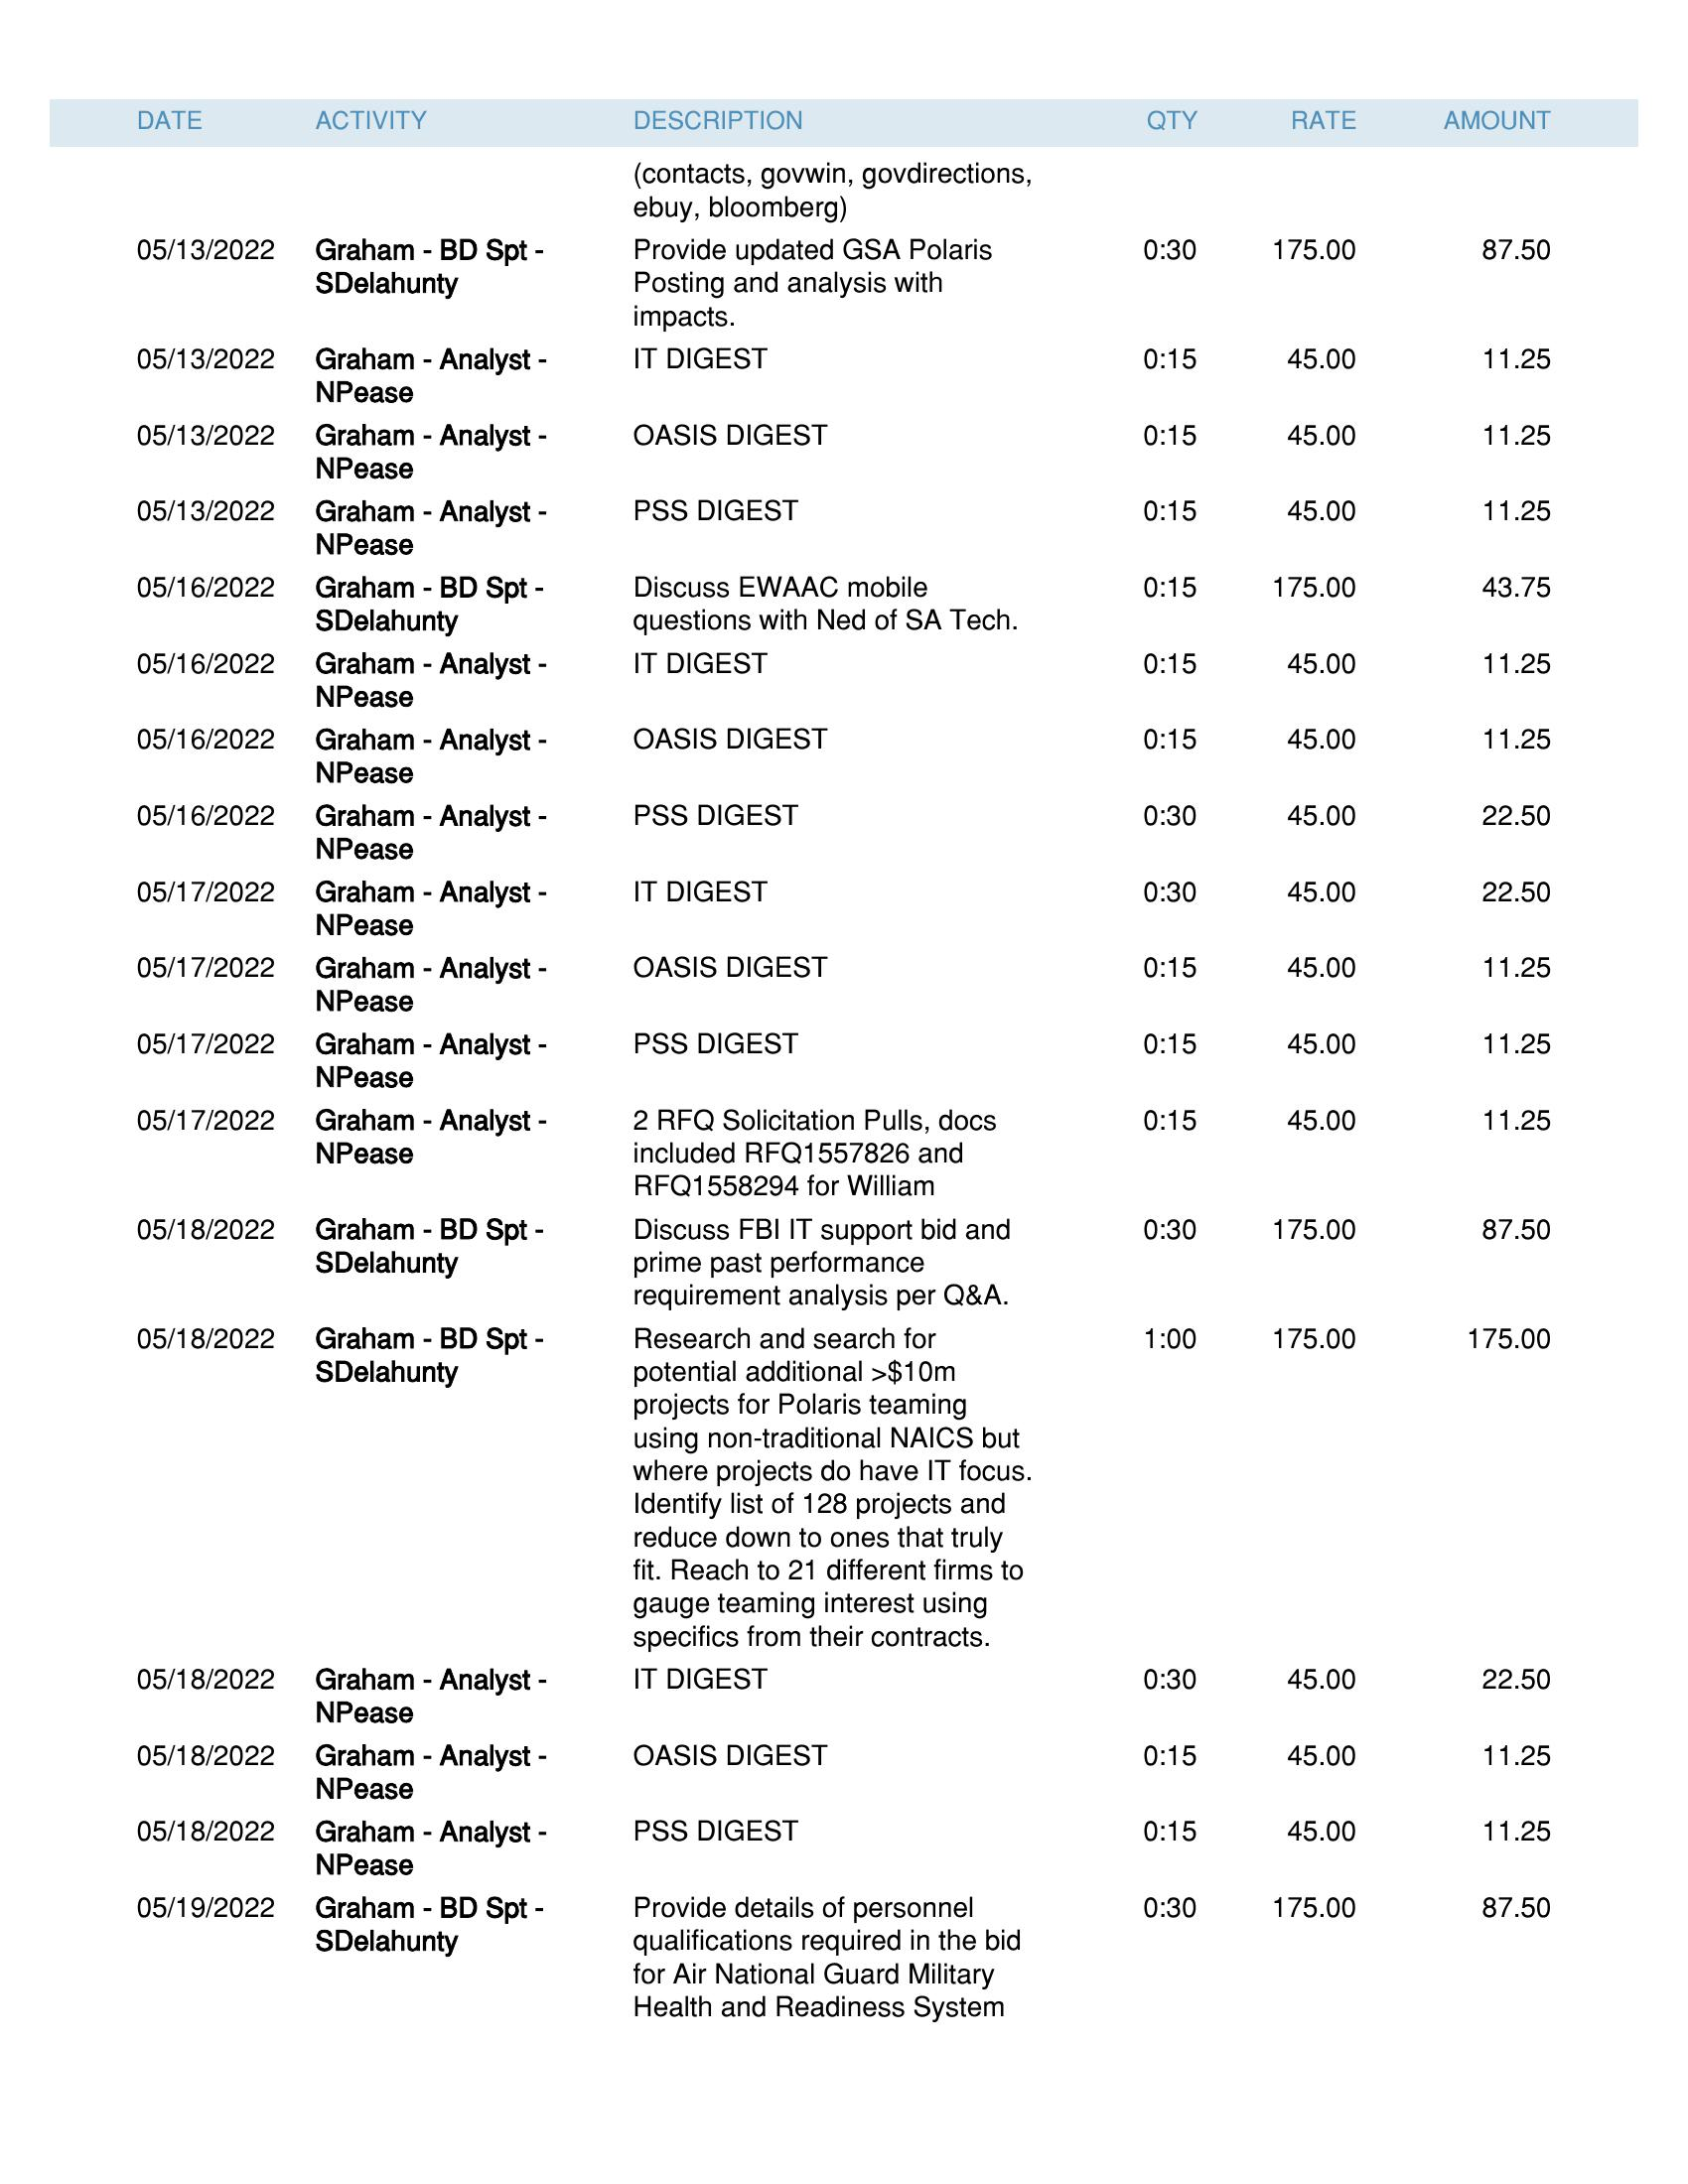table: (48, 73, 1635, 2058)
